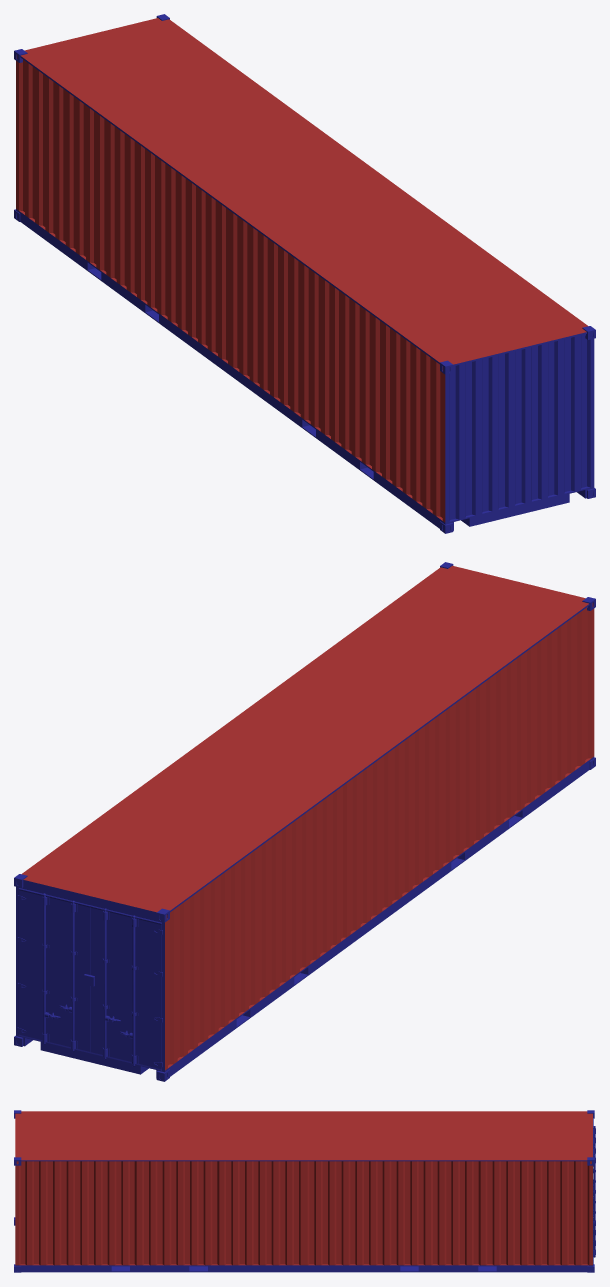
Rendered from Container 40ft sealed red_LOD0.fbx.
3 views of the same model, one above another, from view 1: azimuth 30°, elevation 25°; view 2: azimuth 150°, elevation 25°; view 3: azimuth 270°, elevation 25° (orthographic). The views are drawn at different scales.
Parts seen in each view (by area): view 1: Container_40ft_sealed; view 2: Container_40ft_sealed; view 3: Container_40ft_sealed.
Boxes of the visible parts, x1,y1,x2,y2 form: Container_40ft_sealed: (14, 14, 595, 533); Container_40ft_sealed: (14, 562, 595, 1081); Container_40ft_sealed: (14, 1110, 595, 1272).
Size of the model in its own units: 2.46 by 2.61 by 12.21.
